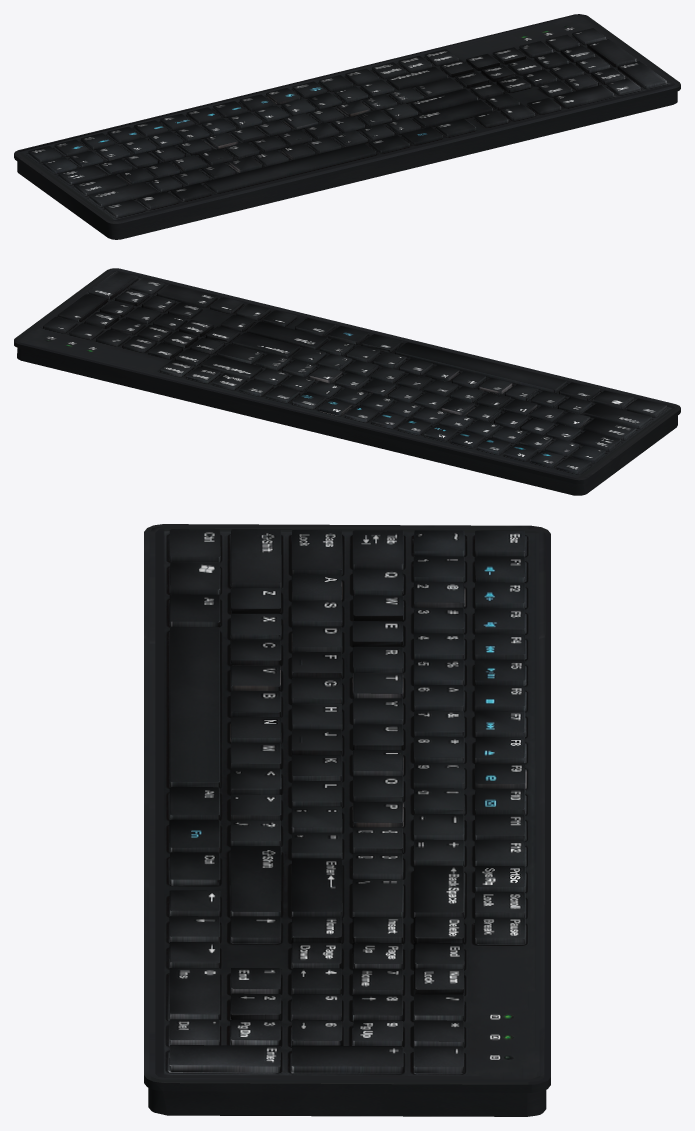
Rendered from Keyboard.fbx.
3 views of the same model, one above another, from view 1: azimuth 30°, elevation 25°; view 2: azimuth 150°, elevation 25°; view 3: azimuth 270°, elevation 25° (orthographic). The views are drawn at different scales.
Visible parts, largest first — view 1: keyboard; view 2: keyboard; view 3: keyboard.
Part boxes in pixels (left/top/right/bottom): keyboard: left=14, top=14, right=680, bottom=239; keyboard: left=14, top=268, right=680, bottom=495; keyboard: left=144, top=524, right=550, bottom=1116.
Size of the model in its own units: 45.19 by 1.62 by 13.91.
Materials: 1 (1 with a texture image).
